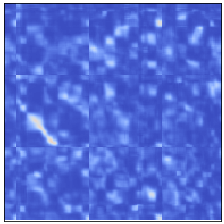action_path: (13, 75, 88, 149)
